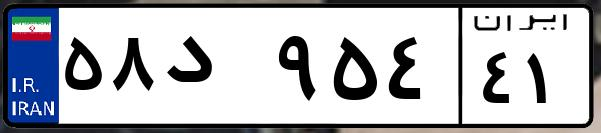1: (525, 38, 570, 115)
4: (385, 28, 445, 110), (475, 38, 525, 113)
5: (330, 28, 385, 110), (57, 26, 110, 100)
8: (110, 28, 158, 98)
9: (270, 28, 330, 110)
د: (158, 20, 270, 120)
